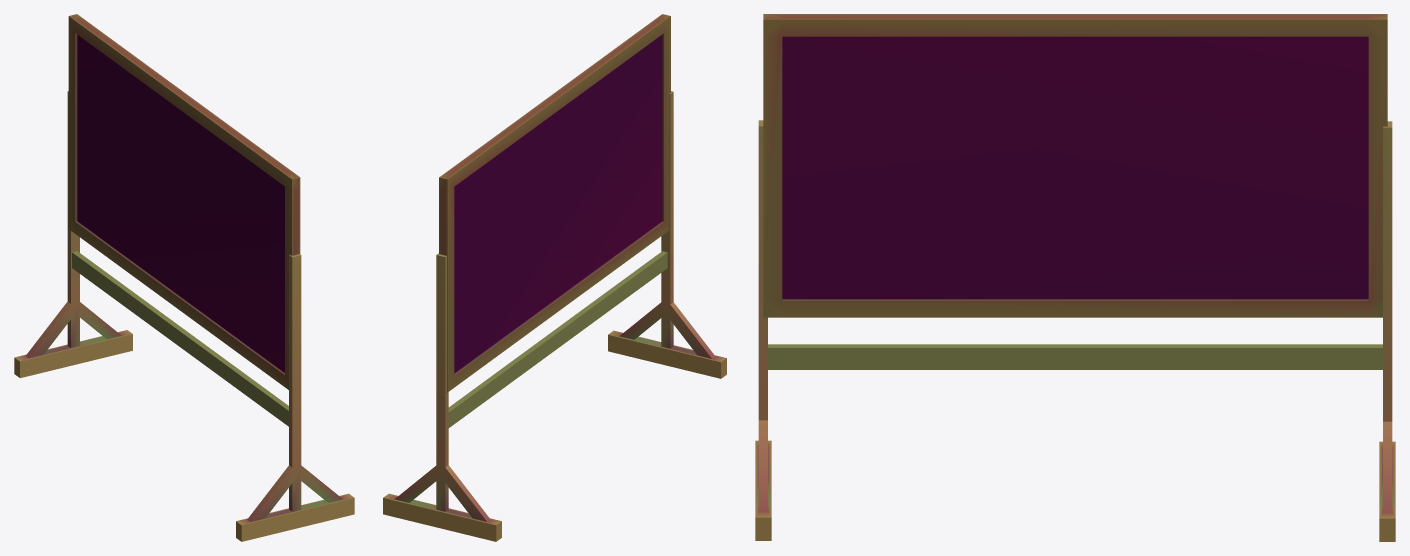
3 views of the same model, side by side, from view 1: azimuth 30°, elevation 25°; view 2: azimuth 150°, elevation 25°; view 3: azimuth 270°, elevation 25° (orthographic). The views are drawn at different scales.
Visible parts, largest first — view 1: panel, foot.001, foot, rail; view 2: panel, foot, foot.001, rail; view 3: panel, rail, foot, foot.001.
Part boxes in pixels (x1,y1,x2,y2): panel: (68, 14, 300, 389); foot.001: (236, 254, 354, 541); foot: (14, 91, 132, 378); rail: (72, 251, 288, 426); panel: (439, 14, 670, 392); foot: (383, 253, 501, 541); foot.001: (608, 91, 726, 378); rail: (448, 251, 667, 427); panel: (763, 14, 1387, 317); rail: (768, 344, 1382, 369); foot: (1379, 121, 1395, 541); foot.001: (755, 120, 771, 540).
Bounding box in the file's own units: 0.434 × 1.26 × 1.5.
